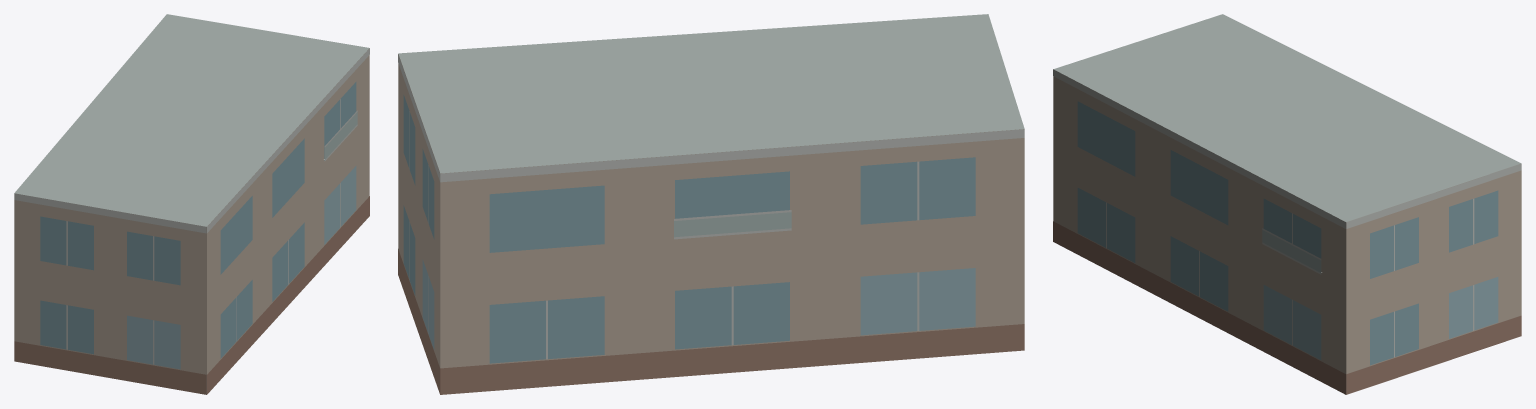
Rendered from survey-upis-32733977.glb.
3 renders of one model, left to right at view 1: azimuth 30°, elevation 25°; view 2: azimuth 150°, elevation 25°; view 3: azimuth 270°, elevation 25°, orthographic. The views are drawn at different scales.
Parts seen in each view (by area): view 1: survey-upis-32733977.tmp; view 2: survey-upis-32733977.tmp; view 3: survey-upis-32733977.tmp.
Part boxes in pixels (<box>): survey-upis-32733977.tmp: <box>14,14,369,394</box>; survey-upis-32733977.tmp: <box>398,14,1024,394</box>; survey-upis-32733977.tmp: <box>1053,14,1521,394</box>.
Bounding box in the file's own units: 15.79 × 6.1 × 15.01.
